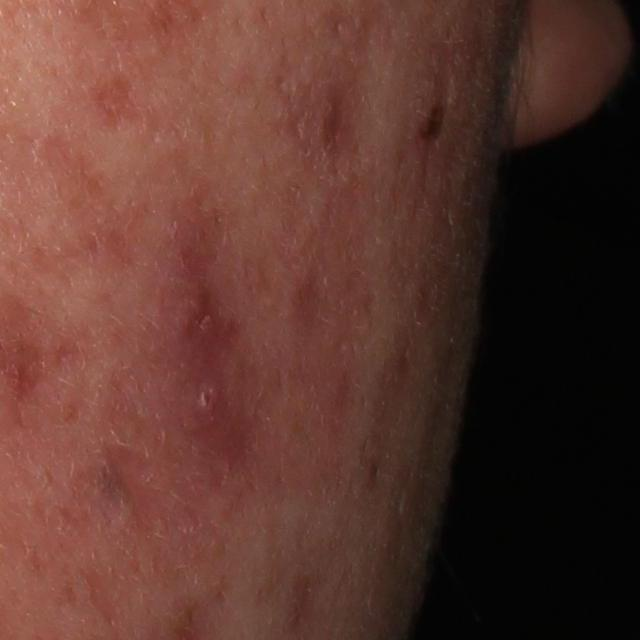nevus: (413, 100, 453, 147)
